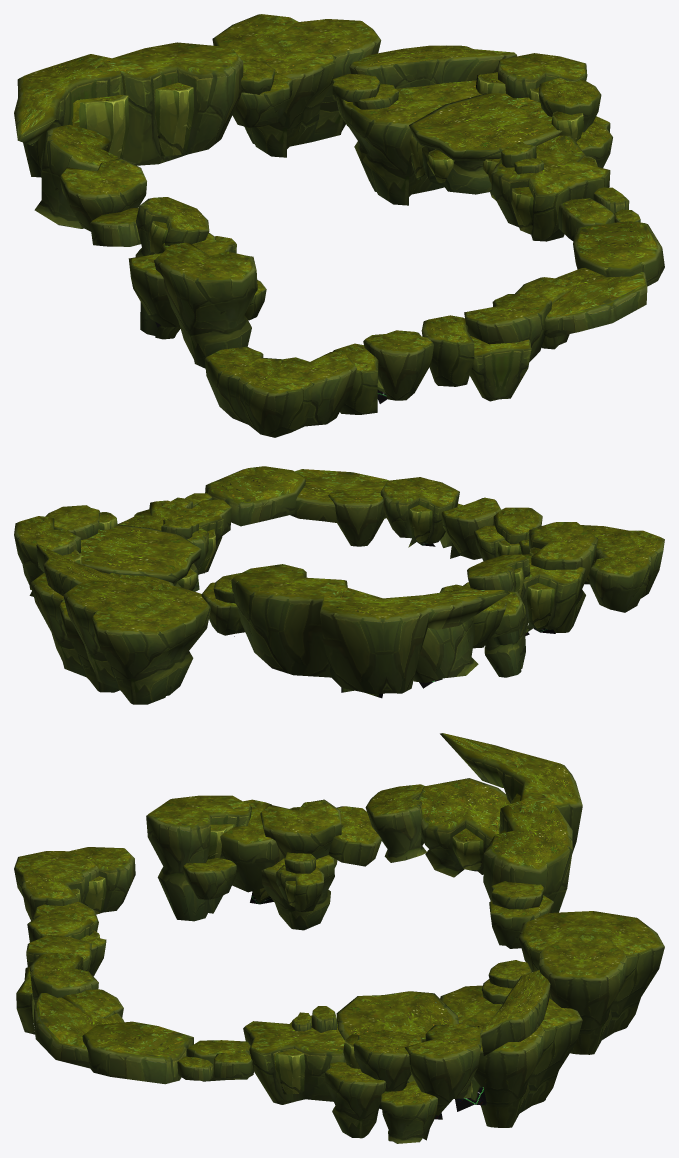
The model's file is shan.FBX.
3 renders of one model, top to bottom at view 1: azimuth 30°, elevation 25°; view 2: azimuth 150°, elevation 25°; view 3: azimuth 270°, elevation 25°, orthographic. The views are drawn at different scales.
Visible parts, largest first — view 1: Line012; view 2: Line012; view 3: Line012.
Boxes of the visible parts, x1,y1,x2,y2 form: Line012: (14, 14, 664, 437); Line012: (14, 466, 664, 704); Line012: (14, 733, 664, 1143).
Bounding box in the file's own units: 4389 × 1310 × 4457.
